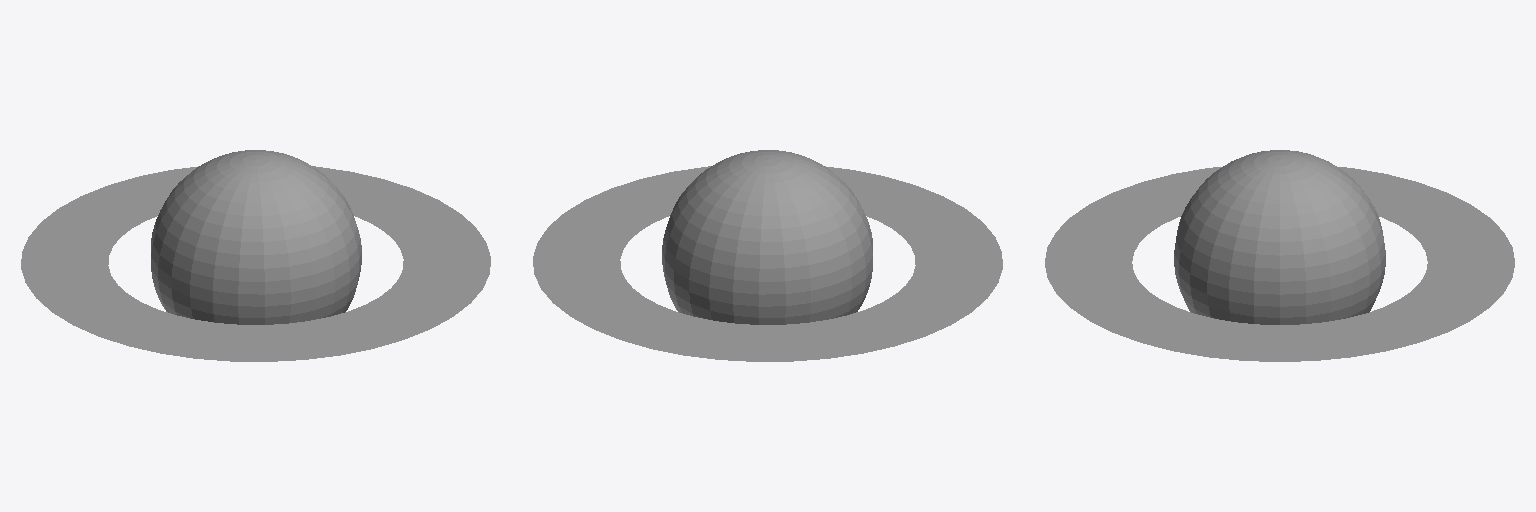
The model's file is saturn.obj.
3 renders of one model, left to right at view 1: azimuth 30°, elevation 25°; view 2: azimuth 150°, elevation 25°; view 3: azimuth 270°, elevation 25°, orthographic.
Parts seen in each view (by area): view 1: saturn saturn, saturnRing1 saturn, saturn saturnRing; view 2: saturn saturn, saturnRing1 saturn, saturn saturnRing; view 3: saturn saturn, saturnRing1 saturn, saturn saturnRing.
Part boxes in pixels (x1,y1,x2,y2): saturn saturn: (151, 150, 361, 324); saturnRing1 saturn: (21, 166, 490, 361); saturn saturnRing: (21, 166, 490, 361); saturn saturn: (662, 150, 872, 324); saturnRing1 saturn: (533, 166, 1002, 361); saturn saturnRing: (533, 167, 1002, 361); saturn saturn: (1174, 150, 1385, 324); saturnRing1 saturn: (1045, 167, 1514, 361); saturn saturnRing: (1045, 167, 1514, 361).
Bounding box in the file's own units: 86.24 × 38.94 × 86.24.